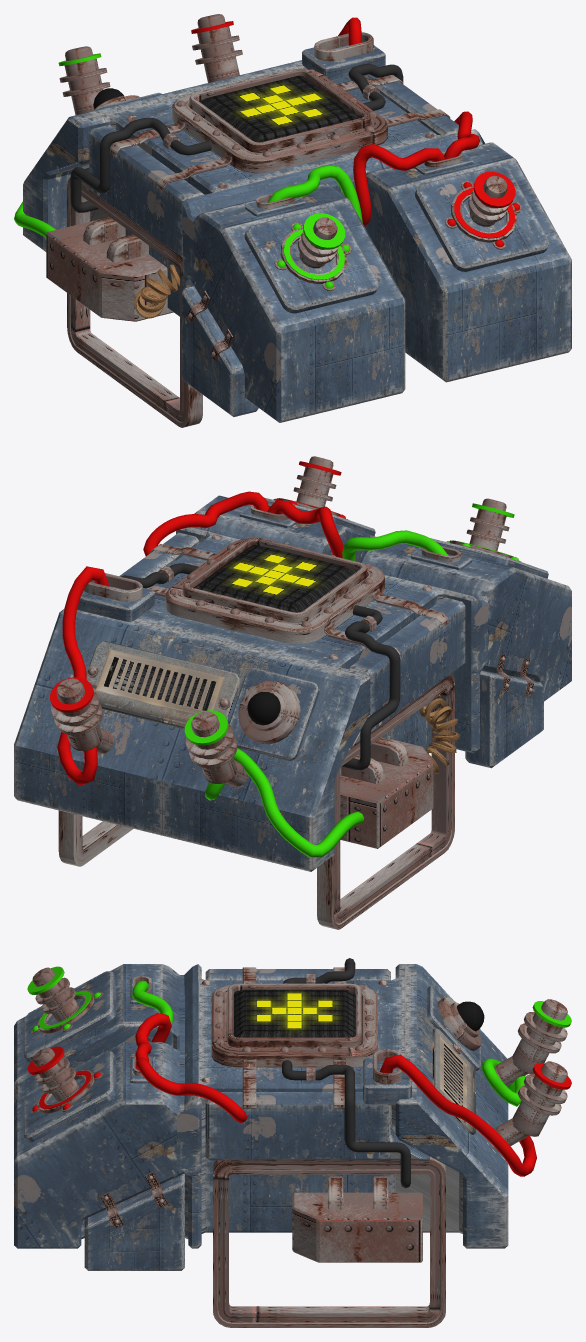
Rendered from static.glb.
3 views of the same model, one above another, from view 1: azimuth 30°, elevation 25°; view 2: azimuth 150°, elevation 25°; view 3: azimuth 270°, elevation 25° (orthographic). The views are drawn at different scales.
Parts seen in each view (by area): view 1: Boole_1, Cube_16, Boole, Sweep_13, Cube_14, Plane_1, Sweep_7, Cube_1, Sweep_1_3, Sweep_11, Cube_7, Sweep_1 (+17 smaller); view 2: Boole_1, Sweep_13, Cube, Boole, Plane_1, Cube_14, Sweep_7, Cube_1, Sweep_1, Sweep_1_3, Sweep_11, Cube_4 (+24 smaller); view 3: Boole_1, Boole, Sweep_13, Cube_14, Cube_1, Cube_16, Plane_1, Sweep_7, Sweep_11, Sweep_1_3, Sweep_2, Cube (+19 smaller).
Part boxes in pixels (x1,y1,x2,y2): Boole_1: [23, 60, 571, 422]; Cube_16: [244, 165, 548, 313]; Boole: [70, 74, 458, 257]; Sweep_13: [67, 178, 202, 427]; Cube_14: [46, 219, 173, 321]; Plane_1: [199, 75, 360, 142]; Sweep_7: [172, 70, 387, 173]; Cube_1: [182, 286, 258, 416]; Sweep_1_3: [189, 68, 370, 152]; Sweep_11: [70, 63, 403, 212]; Cube_7: [109, 75, 450, 191]; Sweep_1: [14, 165, 362, 237]; Boole_1: [14, 495, 571, 871]; Sweep_13: [58, 674, 454, 929]; Cube: [86, 641, 240, 729]; Boole: [119, 532, 465, 745]; Plane_1: [194, 544, 357, 612]; Cube_14: [340, 739, 433, 848]; Sweep_7: [165, 539, 384, 643]; Cube_1: [465, 670, 543, 768]; Sweep_1: [205, 530, 448, 857]; Sweep_1_3: [183, 537, 367, 623]; Sweep_11: [121, 563, 400, 770]; Cube_4: [229, 668, 319, 760]; Boole_1: [14, 964, 508, 1248]; Boole: [205, 969, 429, 1160]; Sweep_13: [213, 1156, 445, 1327]; Cube_14: [292, 1192, 422, 1262]; Cube_1: [84, 1173, 184, 1270]; Cube_16: [24, 971, 116, 1142]; Plane_1: [233, 989, 355, 1037]; Sweep_7: [211, 985, 377, 1067]; Sweep_11: [282, 958, 410, 1188]; Sweep_1_3: [228, 983, 361, 1047]; Sweep_2: [380, 1054, 536, 1176]; Cube: [432, 1028, 475, 1134].
Bounding box in the file's own units: 2.03 × 1.62 × 3.03.
9 materials, 9 textured.
